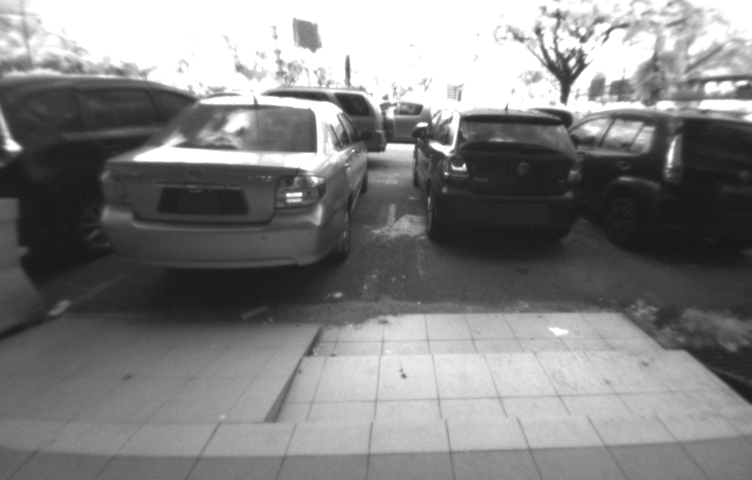down_steps: (257, 304, 741, 441)
mixed_gradient: (216, 317, 349, 445)
